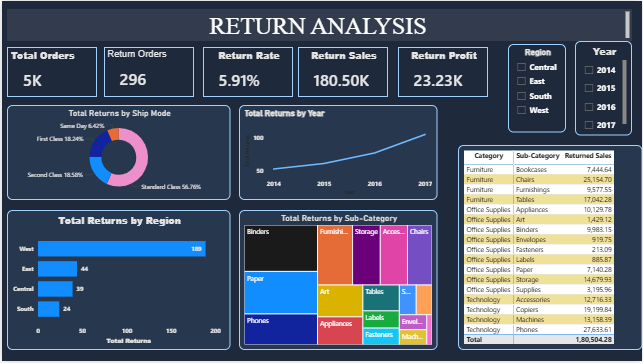

The dashboard page shown, as its layout file describes it:
{"tool":"powerbi","page":{"name":"Return","canvas":[1280,720],"ordinal":1},"visuals":[{"type":"cardVisual","title":"Total Orders","fields":{"Data":["Orders.total_orders"]},"box":[10,92.9,180,100],"z":0},{"type":"cardVisual","title":"Return Orders","fields":{"Data":["Orders.Total Returns"]},"box":[204.3,92.9,180,100],"z":1000},{"type":"cardVisual","title":"Return Rate","fields":{"Data":["Orders.Return Rate"]},"box":[402.9,92.9,180,100],"z":2000},{"type":"cardVisual","title":"Return Sales","fields":{"Data":["Orders.Returned Sales"]},"box":[592.9,92.9,180,100],"z":3000},{"type":"cardVisual","title":"Return Profit","fields":{"Data":["Orders.Returned Profit"]},"box":[791.4,92.9,180,100],"z":4000},{"type":"slicer","title":"Year","fields":{"Values":["Orders.Order Date.Variation.Date Hierarchy.Year"]},"box":[1145.7,80,114.3,188.6],"z":5000},{"type":"clusteredBarChart","fields":{"Category":["Orders.Region"],"Y":["Orders.Total Returns"]},"box":[10,417.1,447.1,280],"z":6000},{"type":"tableEx","fields":{"Values":["Orders.Category","Orders.Sub-Category","Orders.Returned Sales"]},"box":[911.4,287.1,368.6,410],"z":7000},{"type":"donutChart","fields":{"Category":["Orders.Ship Mode"],"Y":["Orders.Total Returns"]},"box":[10,207.1,447.1,190],"z":8000},{"type":"lineChart","fields":{"Category":["Orders.Order Date.Variation.Date Hierarchy.Year","Orders.Order Date.Variation.Date Hierarchy.Month"],"Y":["Orders.Total Returns"]},"box":[474.3,207.1,397.1,190],"z":9000},{"type":"treemap","fields":{"Group":["Orders.Sub-Category"],"Values":["Orders.Total Returns"]},"box":[474.3,417.1,397.1,280],"z":10000},{"type":"textbox","box":[10,15.7,1250,64.3],"z":11000},{"type":"slicer","title":"Region","fields":{"Values":["Orders.Region"]},"box":[1012.9,85.7,115.7,177.1],"z":12000}]}

Visuals, with their boxes in screenshot pixels (x1, y1, x2, y2), scaled from the page's 1280x720 canvas onto the 643x363 screenshot:
"Total Orders" cardVisual: x1=5 y1=47 x2=95 y2=97
"Return Orders" cardVisual: x1=103 y1=47 x2=193 y2=97
"Return Rate" cardVisual: x1=202 y1=47 x2=293 y2=97
"Return Sales" cardVisual: x1=298 y1=47 x2=388 y2=97
"Return Profit" cardVisual: x1=398 y1=47 x2=488 y2=97
"Year" slicer: x1=576 y1=40 x2=633 y2=135
clusteredBarChart - Orders.Region x Orders.Total Returns: x1=5 y1=210 x2=230 y2=351
tableEx - Orders.Category x Orders.Sub-Category: x1=458 y1=145 x2=642 y2=351
donutChart - Orders.Ship Mode x Orders.Total Returns: x1=5 y1=104 x2=230 y2=200
lineChart - Orders.Order Date.Variation.Date Hierarchy.Year x Orders.Order Date.Variation.Date Hierarchy.Month: x1=238 y1=104 x2=438 y2=200
treemap - Orders.Sub-Category x Orders.Total Returns: x1=238 y1=210 x2=438 y2=351
textbox: x1=5 y1=8 x2=633 y2=40
"Region" slicer: x1=509 y1=43 x2=567 y2=132
